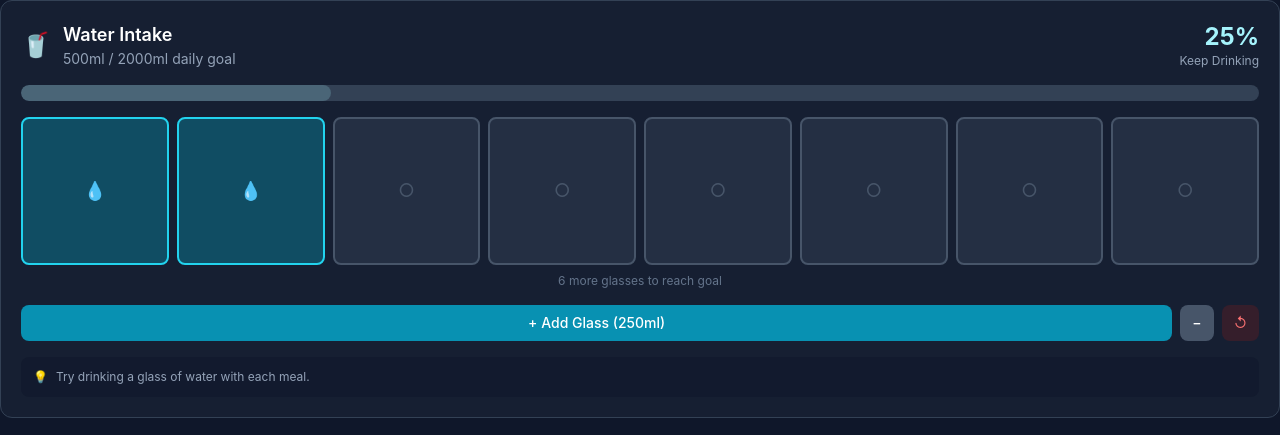
Test: WaterTracker Component › Removing Water › should decrement water count when removing a glass
Expected: the text "500ml / 2000ml daily goal" is shown, [63,49,236,69]
// Use title attribute to find remove button
Click the button titled "Remove last glass" at (1197, 323), box [1180,305,1214,341]
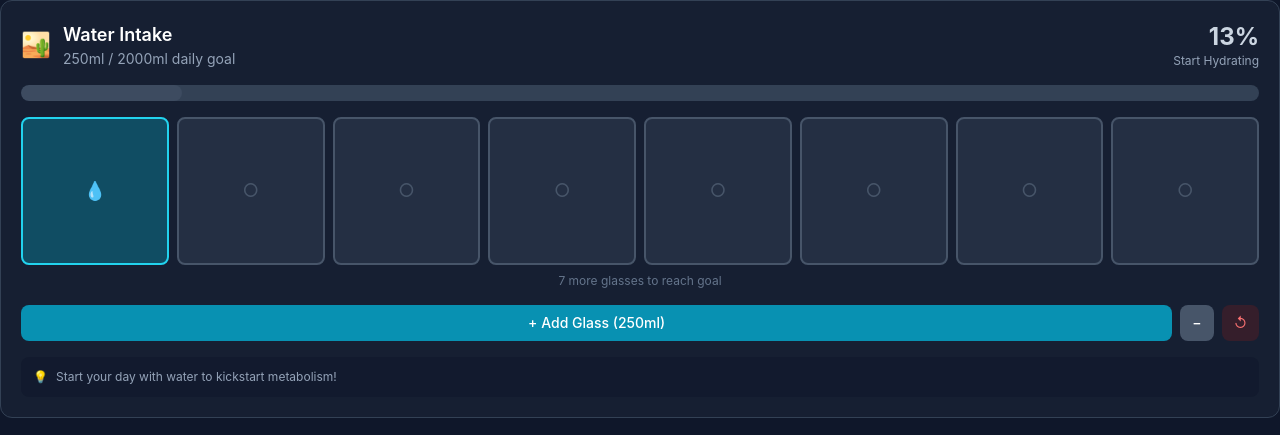
Result: the text "250ml / 2000ml daily goal" is shown at [63,49,235,69]
